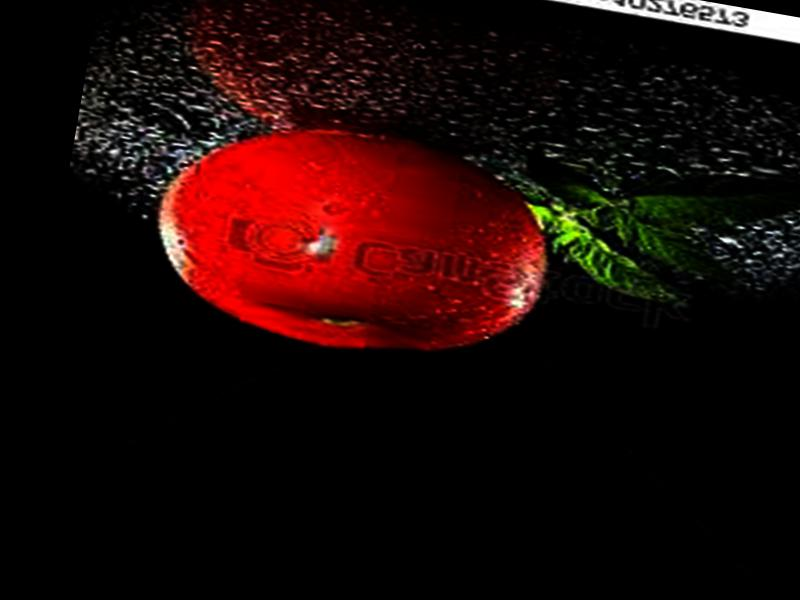Tomato: (142, 102, 563, 381)
